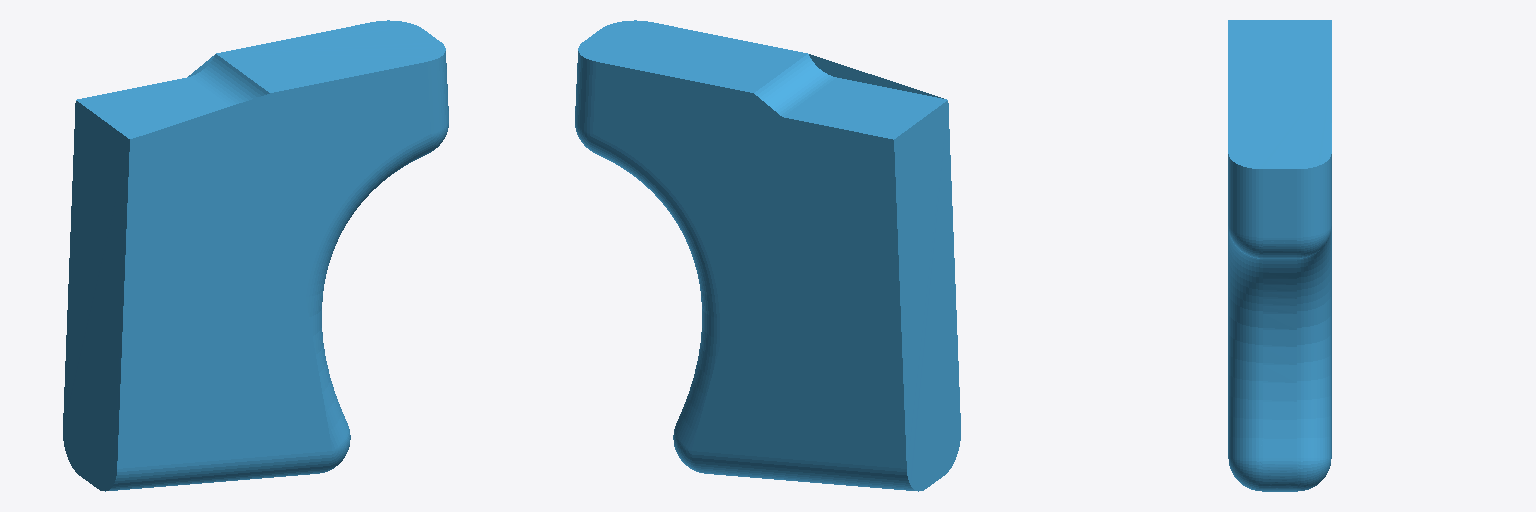
robot.urdf — drill:
<?xml version="1.0"?>
<robot name="drill">
  <link name="base">
    <visual>
      <geometry>
        <mesh filename="assets/base.obj" />
      </geometry>
    </visual>
  </link>
  <link name="trigger">
    <visual>
      <geometry>
        <mesh filename="assets/trigger.obj" />
      </geometry>
    </visual>
  </link>
  <joint name="base_to_trigger" type="fixed">
    <parent link="base"/>
    <child link="trigger"/>
  </joint>
  <link name="chuck">
    <visual>
      <geometry>
        <mesh filename="assets/chuck.obj" />
      </geometry>
    </visual>
  </link>
  <joint name="base_to_chuck" type="fixed">
    <parent link="base"/>
    <child link="chuck"/>
  </joint>
  <link name="bit">
    <visual>
      <geometry>
        <mesh filename="assets/bit.obj" />
      </geometry>
    </visual>
  </link>
  <joint name="chuck_to_bit" type="fixed">
    <parent link="chuck"/>
    <child link="bit"/>
  </joint>
</robot>

--- Render facts (derived) ---
The picture shows the robot from 3 angles, left to right: view 1: azimuth 30°, elevation 25°; view 2: azimuth 150°, elevation 25°; view 3: azimuth 270°, elevation 25°; orthographic projection.
Robot: drill — 4 links, 3 joints (3 fixed); root link base; default pose: every joint at zero.
Visible links, largest first — view 1: trigger; view 2: trigger; view 3: trigger.
Link boxes in pixels (x1,y1,x2,y2): trigger: (63, 20, 448, 491); trigger: (575, 20, 960, 491); trigger: (1228, 20, 1331, 491).
Size in the robot's own frame: 0.0333 by 0.0091 by 0.0373 metres.
Meshes: 4 distinct files referenced, 1 mesh visuals loaded (1 OBJ); not drawn: 3 (reference not matched to a file when rendering).